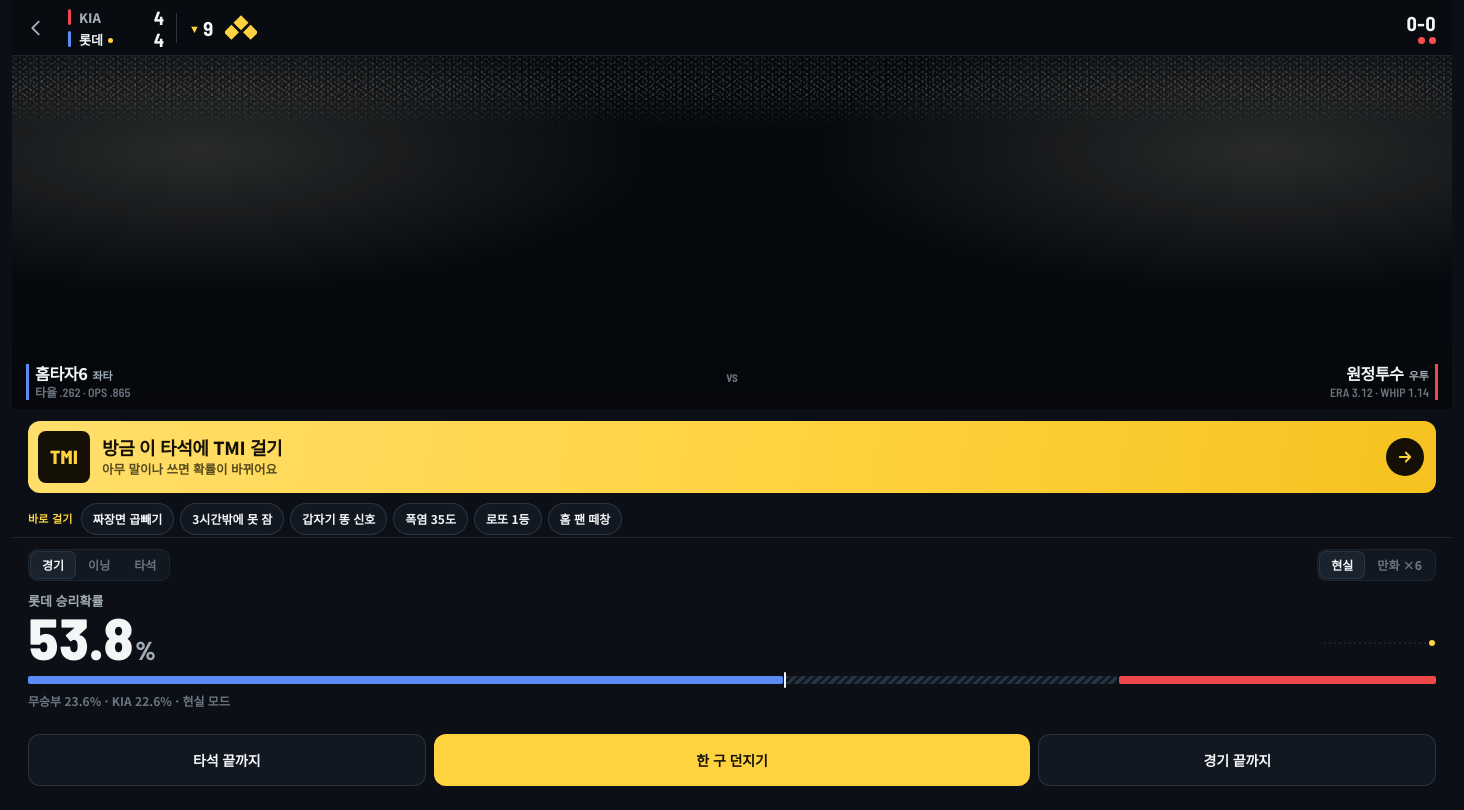
Test: PlayScreen › "한 구 던지기" 뒤에는 모드·TMI가 잠기고 "↺ 처음부터"로 되돌린다
The image size is (1464, 810).
Expected: the element labelled "53.8%" is shown, [28, 611, 155, 664]
Click the button "한 구 던지기" at (732, 760), box [434, 734, 1030, 786]
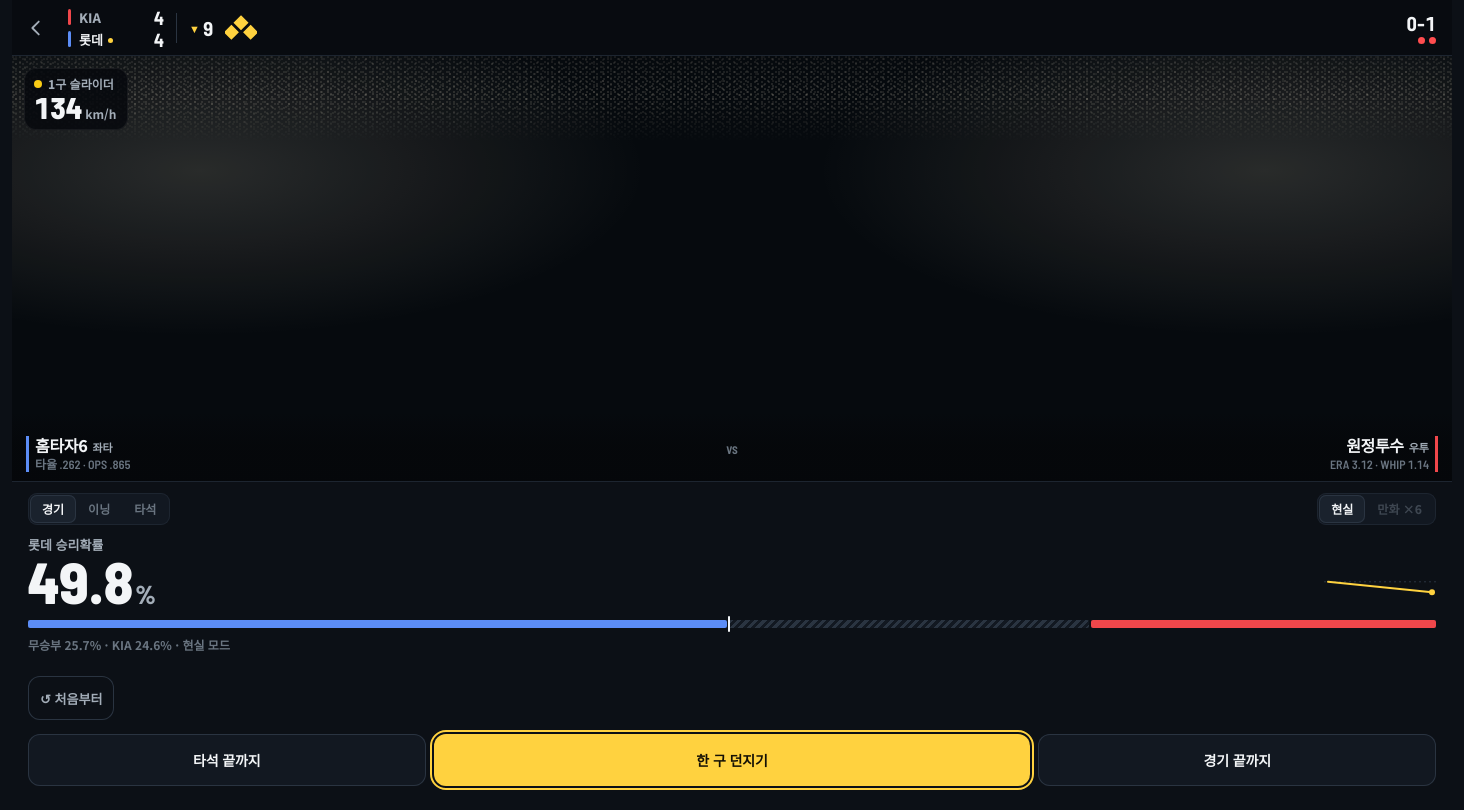
Result: the radio button labelled "만화 ×6" is disabled at [1365, 495, 1434, 523]
Click the button "↺ 처음부터" at (71, 698), box [28, 676, 114, 720]
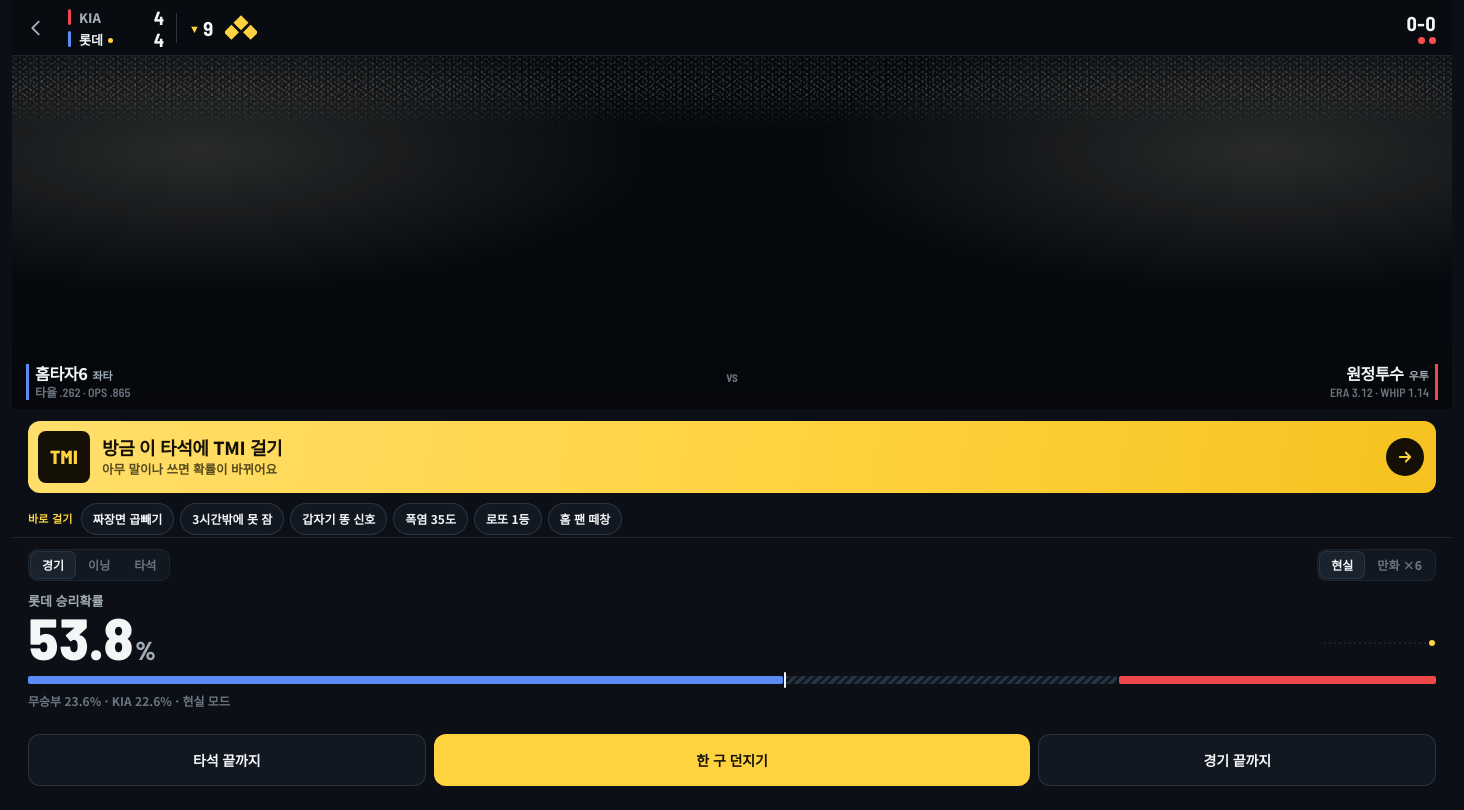
Result: the button "TMI 방금 이 타석에 TMI 걸기 아무 말이나 쓰면 확률이 바뀌어요" is shown at [28, 421, 1436, 493]
